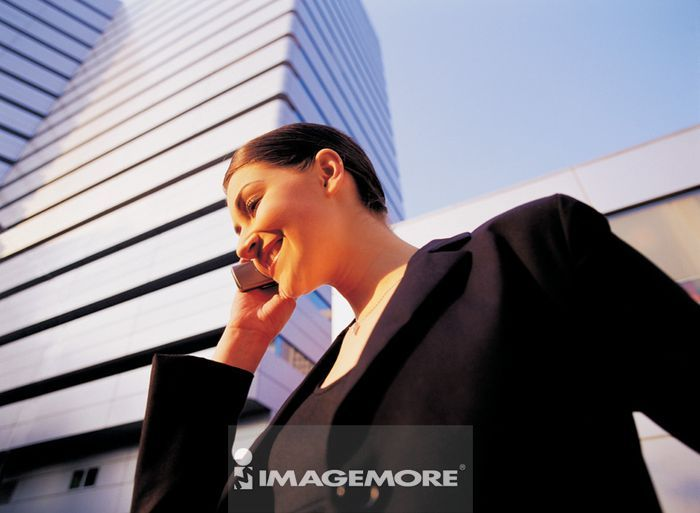talk: (211, 173, 312, 362)
